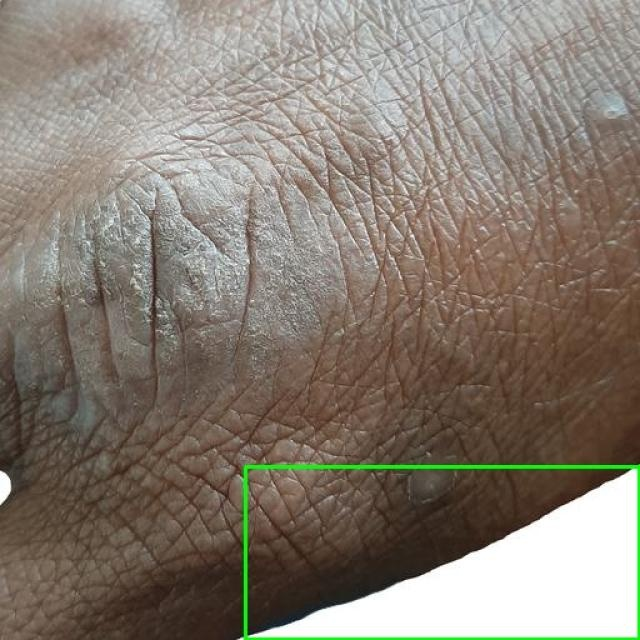Eczema: (245, 466, 639, 639)
